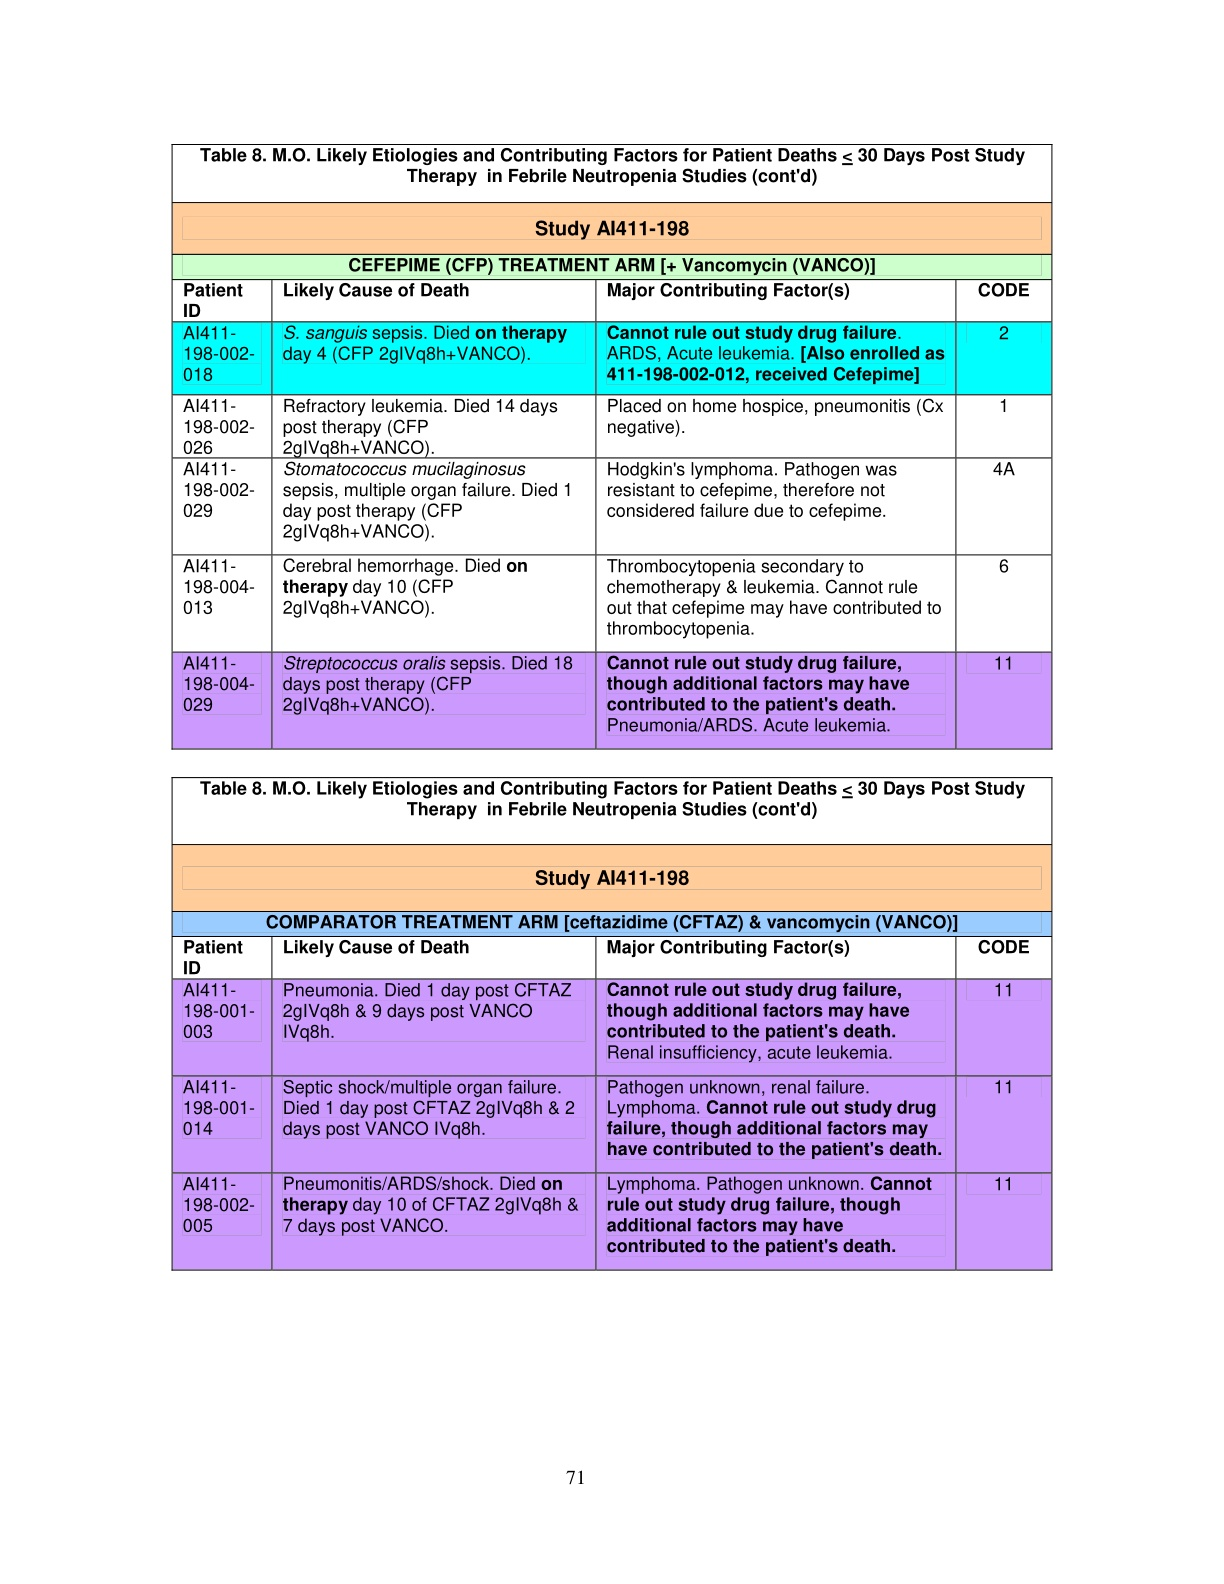merged_cells: (171, 144, 1053, 750), (171, 777, 1053, 1272)
